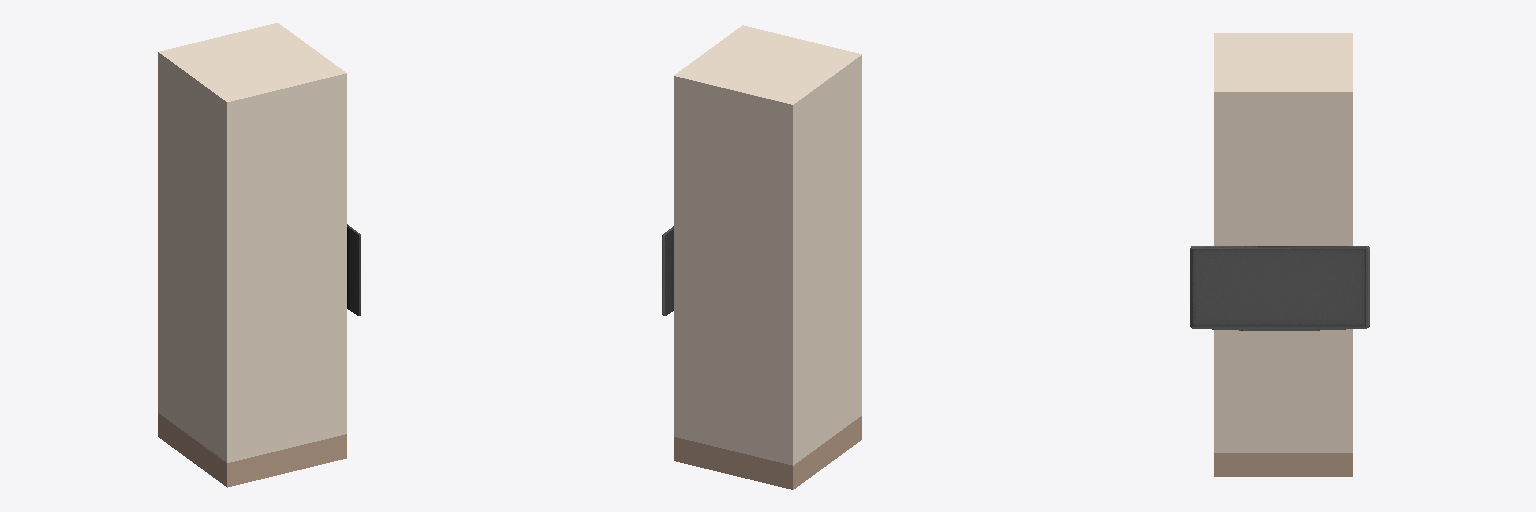
The picture shows the model from 3 angles: view 1: azimuth 30°, elevation 25°; view 2: azimuth 150°, elevation 25°; view 3: azimuth 270°, elevation 25°; orthographic projection.
Visible parts, largest first — view 1: Cube.033_Cube.006, Cube.002; view 2: Cube.033_Cube.006, Cube.002; view 3: Cube.033_Cube.006, Cube.002.
Part boxes in pixels (bbox=[...]): Cube.033_Cube.006: bbox=[158, 23, 346, 487]; Cube.002: bbox=[347, 224, 360, 315]; Cube.033_Cube.006: bbox=[674, 25, 861, 489]; Cube.002: bbox=[662, 226, 673, 315]; Cube.033_Cube.006: bbox=[1214, 33, 1352, 476]; Cube.002: bbox=[1190, 246, 1369, 330].
Size of the model in its own units: 4.11 by 12.29 by 5.2.
Materials: 2 (2 with a texture image).